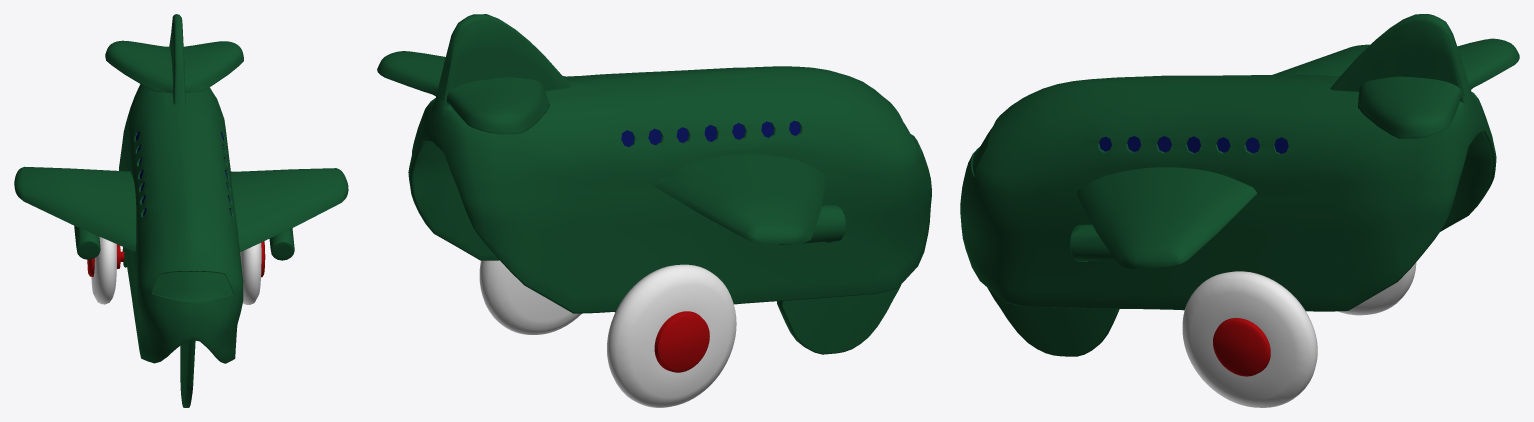
3 views of the same model, side by side, from view 1: azimuth 30°, elevation 25°; view 2: azimuth 150°, elevation 25°; view 3: azimuth 270°, elevation 25° (orthographic). The views are drawn at different scales.
Visible parts, largest first — view 1: Jumbo; view 2: Jumbo; view 3: Jumbo.
Boxes of the visible parts, box(x1,y1,x2,y2) form: Jumbo: box(14, 14, 348, 407); Jumbo: box(377, 14, 931, 407); Jumbo: box(960, 14, 1519, 407).
Size of the model in its own units: 0.987 by 0.9584 by 1.15.
